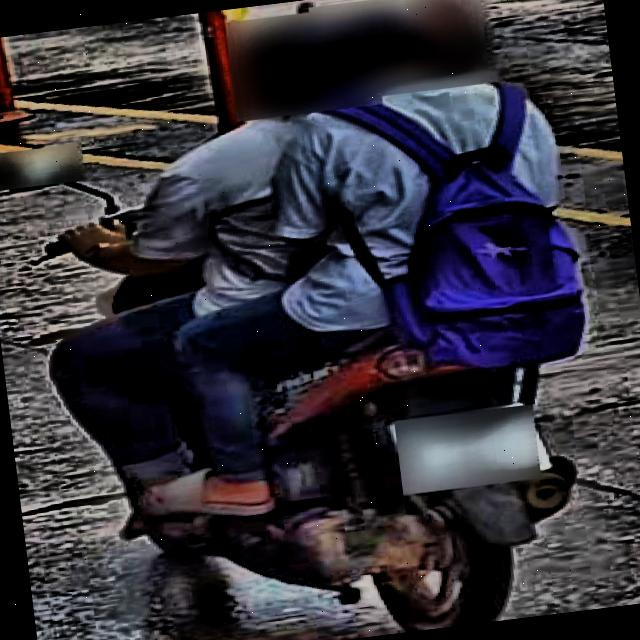motorcycle: (0, 86, 597, 640)
